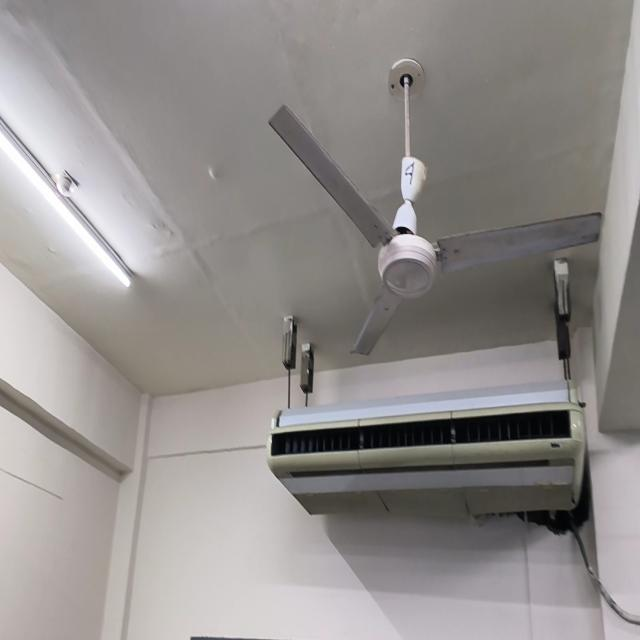Ac: (267, 380, 591, 533)
Light: (0, 117, 132, 287)
